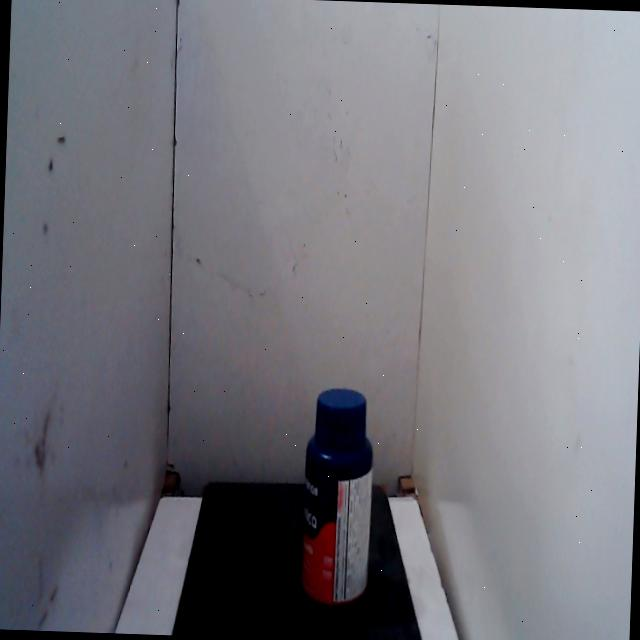plastico: (292, 369, 384, 622)
